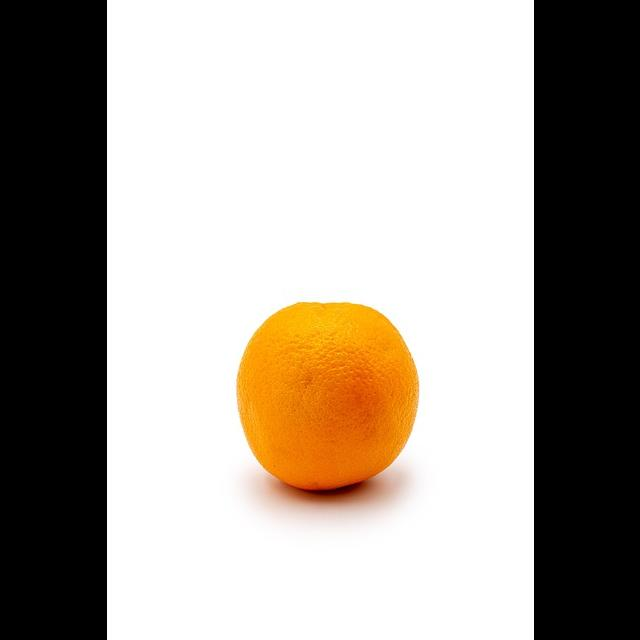orange: (208, 274, 441, 508)
